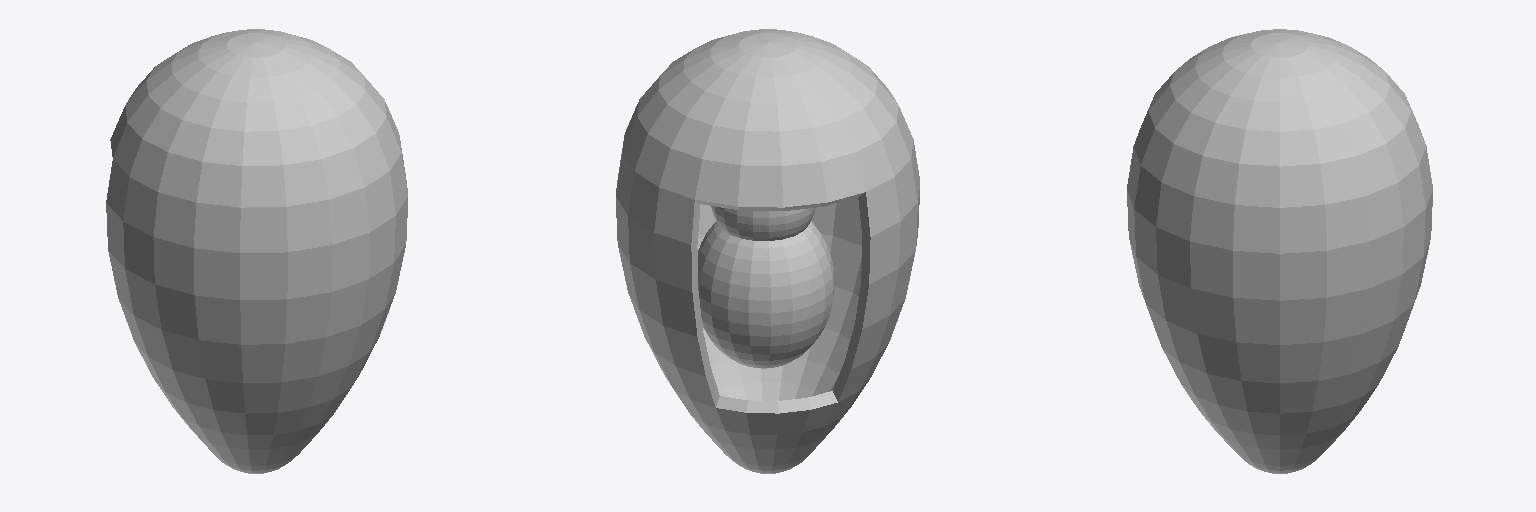
File: birdhouse_placeholder.obj
The picture shows the model from 3 angles: view 1: azimuth 30°, elevation 25°; view 2: azimuth 150°, elevation 25°; view 3: azimuth 270°, elevation 25°; orthographic projection.
Parts seen in each view (by area): view 1: birdhouse_placeholder birdhouse_placeholder; view 2: birdhouse_placeholder birdhouse_placeholder, bird_placeholder birdhouse_placeholder; view 3: birdhouse_placeholder birdhouse_placeholder.
Boxes of the visible parts, x1=… form: birdhouse_placeholder birdhouse_placeholder: x1=106, y1=29, x2=407, y2=473; birdhouse_placeholder birdhouse_placeholder: x1=616, y1=29, x2=919, y2=473; bird_placeholder birdhouse_placeholder: x1=698, y1=206, x2=834, y2=368; birdhouse_placeholder birdhouse_placeholder: x1=1127, y1=29, x2=1432, y2=473.
Bounding box in the file's own units: 0.7234 × 1.11 × 0.7234.